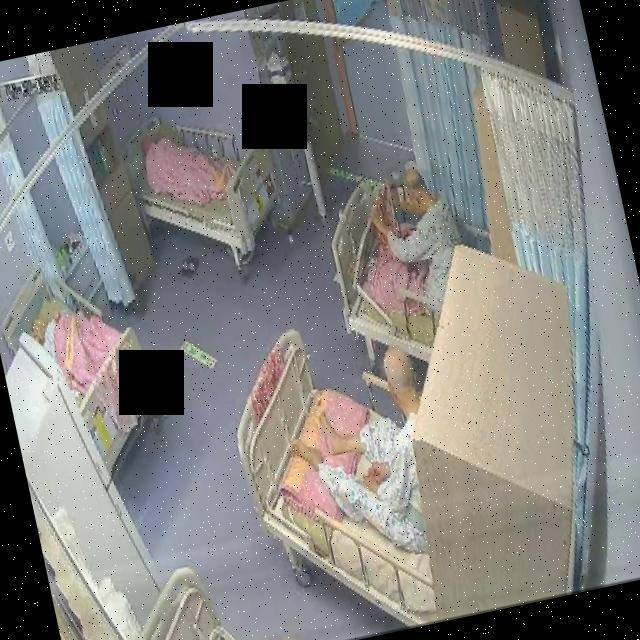bed: (215, 310, 451, 640), (0, 245, 172, 493), (318, 167, 481, 380), (121, 91, 292, 272)
lie: (20, 279, 128, 409)
patient: (276, 340, 455, 597), (328, 164, 470, 322), (24, 309, 68, 366)
sit: (274, 342, 452, 595), (329, 162, 471, 324)
